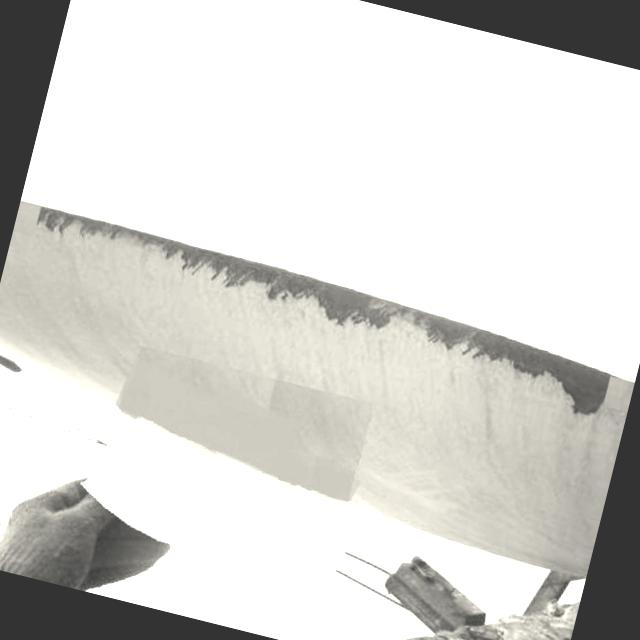corrosion: (272, 266, 622, 415)
surface_peeling: (34, 203, 276, 290)
